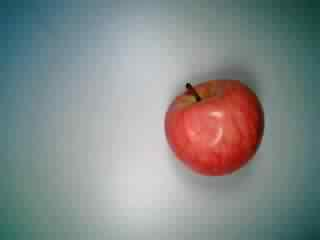apple: (164, 76, 268, 177)
